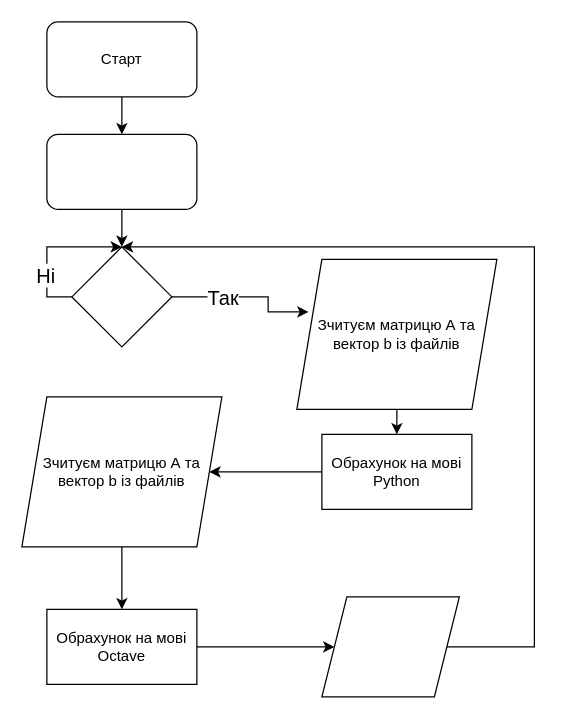
Image size: 566x719. Some labels were removed from this diagram. Each missing label, with the box of its shape:
Run ?: (71, 246, 172, 347)
Виведення результатів та похибок: (321, 596, 459, 697)
Відкриття вікна програми: (46, 133, 197, 209)
